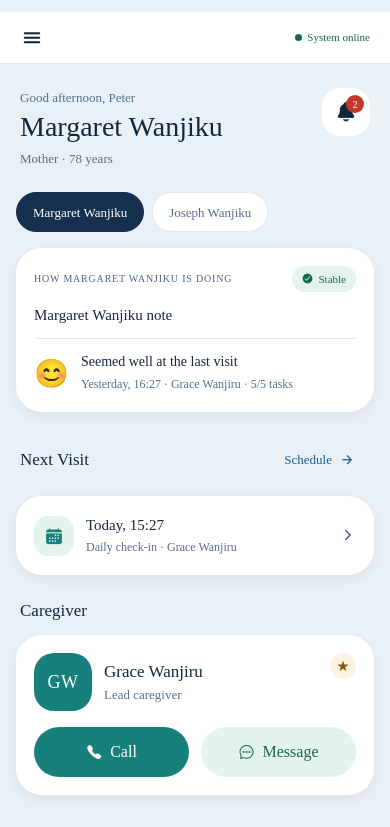
Test: more than one loved one › offers a switcher, and the whole screen follows it
Check: the text "Margaret Wanjiku note" is shown, box top-left (34, 307), bottom-right (172, 323)
What coordinates should you click on to do the following:
click the radio button with aria-label "Joseph Wanjiku, Father"
I would click on:
 (210, 212)
Its box is top-left (152, 192), bottom-right (268, 232).
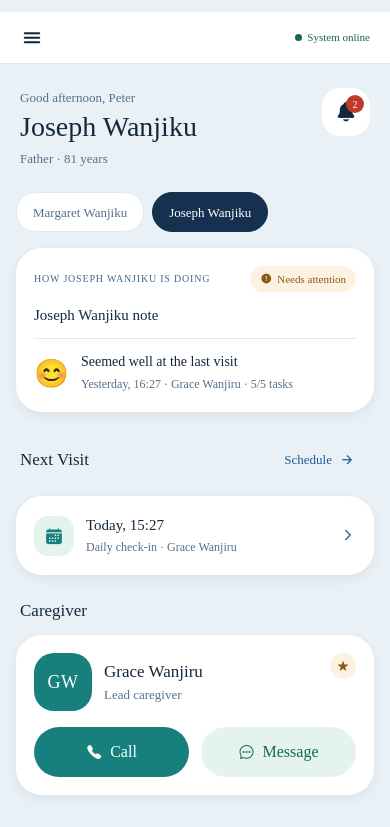
Check: the text "Joseph Wanjiku note" is shown, box top-left (34, 307), bottom-right (158, 323)
Check: the text "Margaret Wanjiku note" is gone
Check: the text "Needs attention" is shown, box top-left (277, 271), bottom-right (346, 287)
